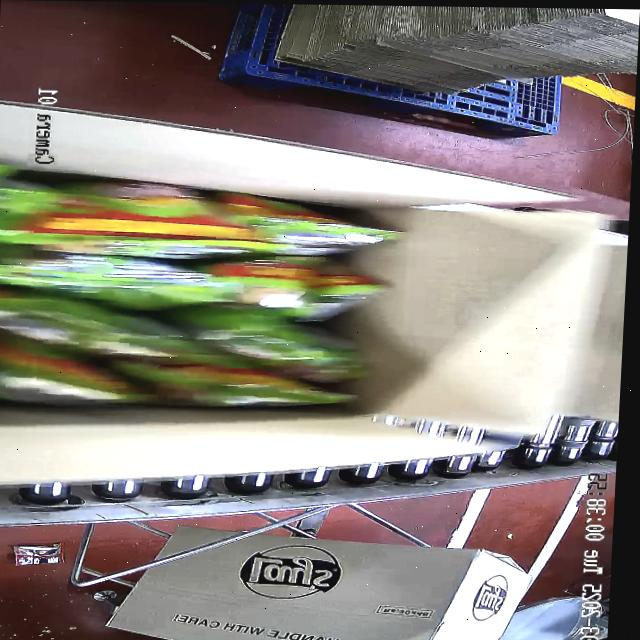YOGURT_HERB: (0, 176, 411, 412)
